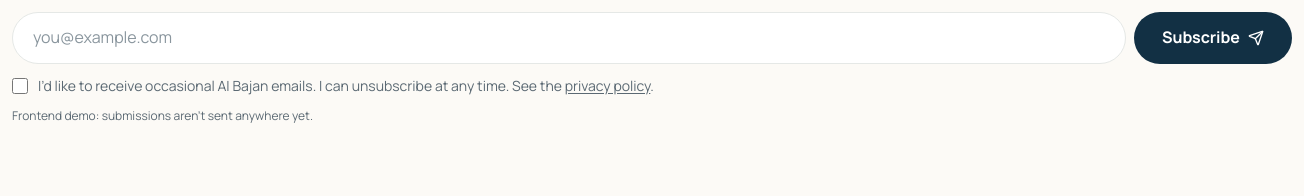
Test case: forms › newsletter validates email and consent
The image size is (1304, 196).
Step 1. Type "not-an-email" into the field named "Email address" → (569, 38), box [12,12,1126,64]
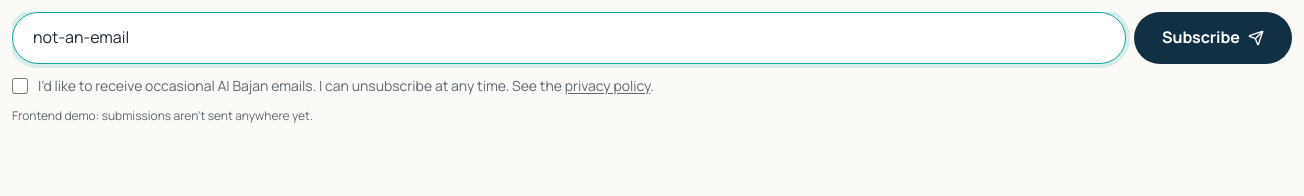
Step 2. Click the button "Subscribe" → (1213, 38), box [1134,12,1292,64]
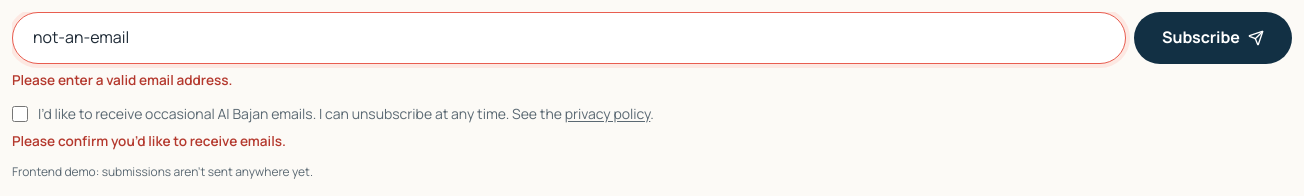
Result: the text "Please enter a valid email address." is shown at [12,71,232,89]
Result: the text "Please confirm you’d like to receive emails." is shown at [12,132,286,150]
